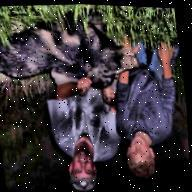boar: (0, 0, 147, 106)
